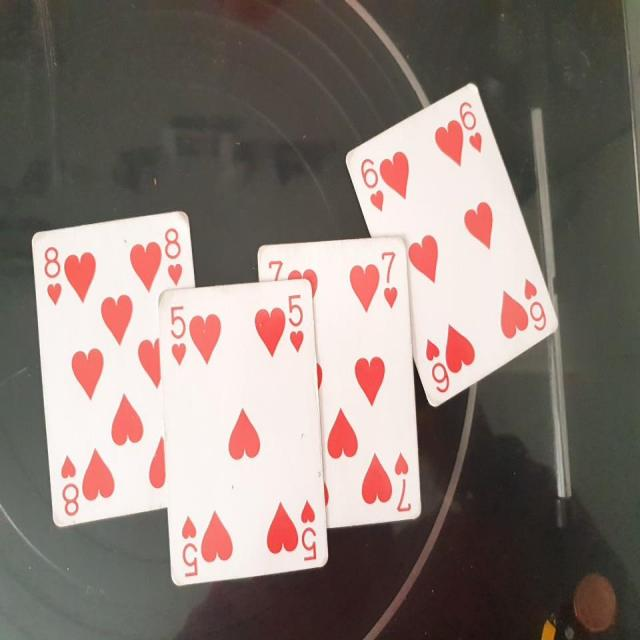5 Hearts: (159, 272, 330, 588)
6 Hearts: (346, 71, 559, 416)
7 Hearts: (254, 234, 425, 533)
8 Hearts: (26, 206, 202, 540)
